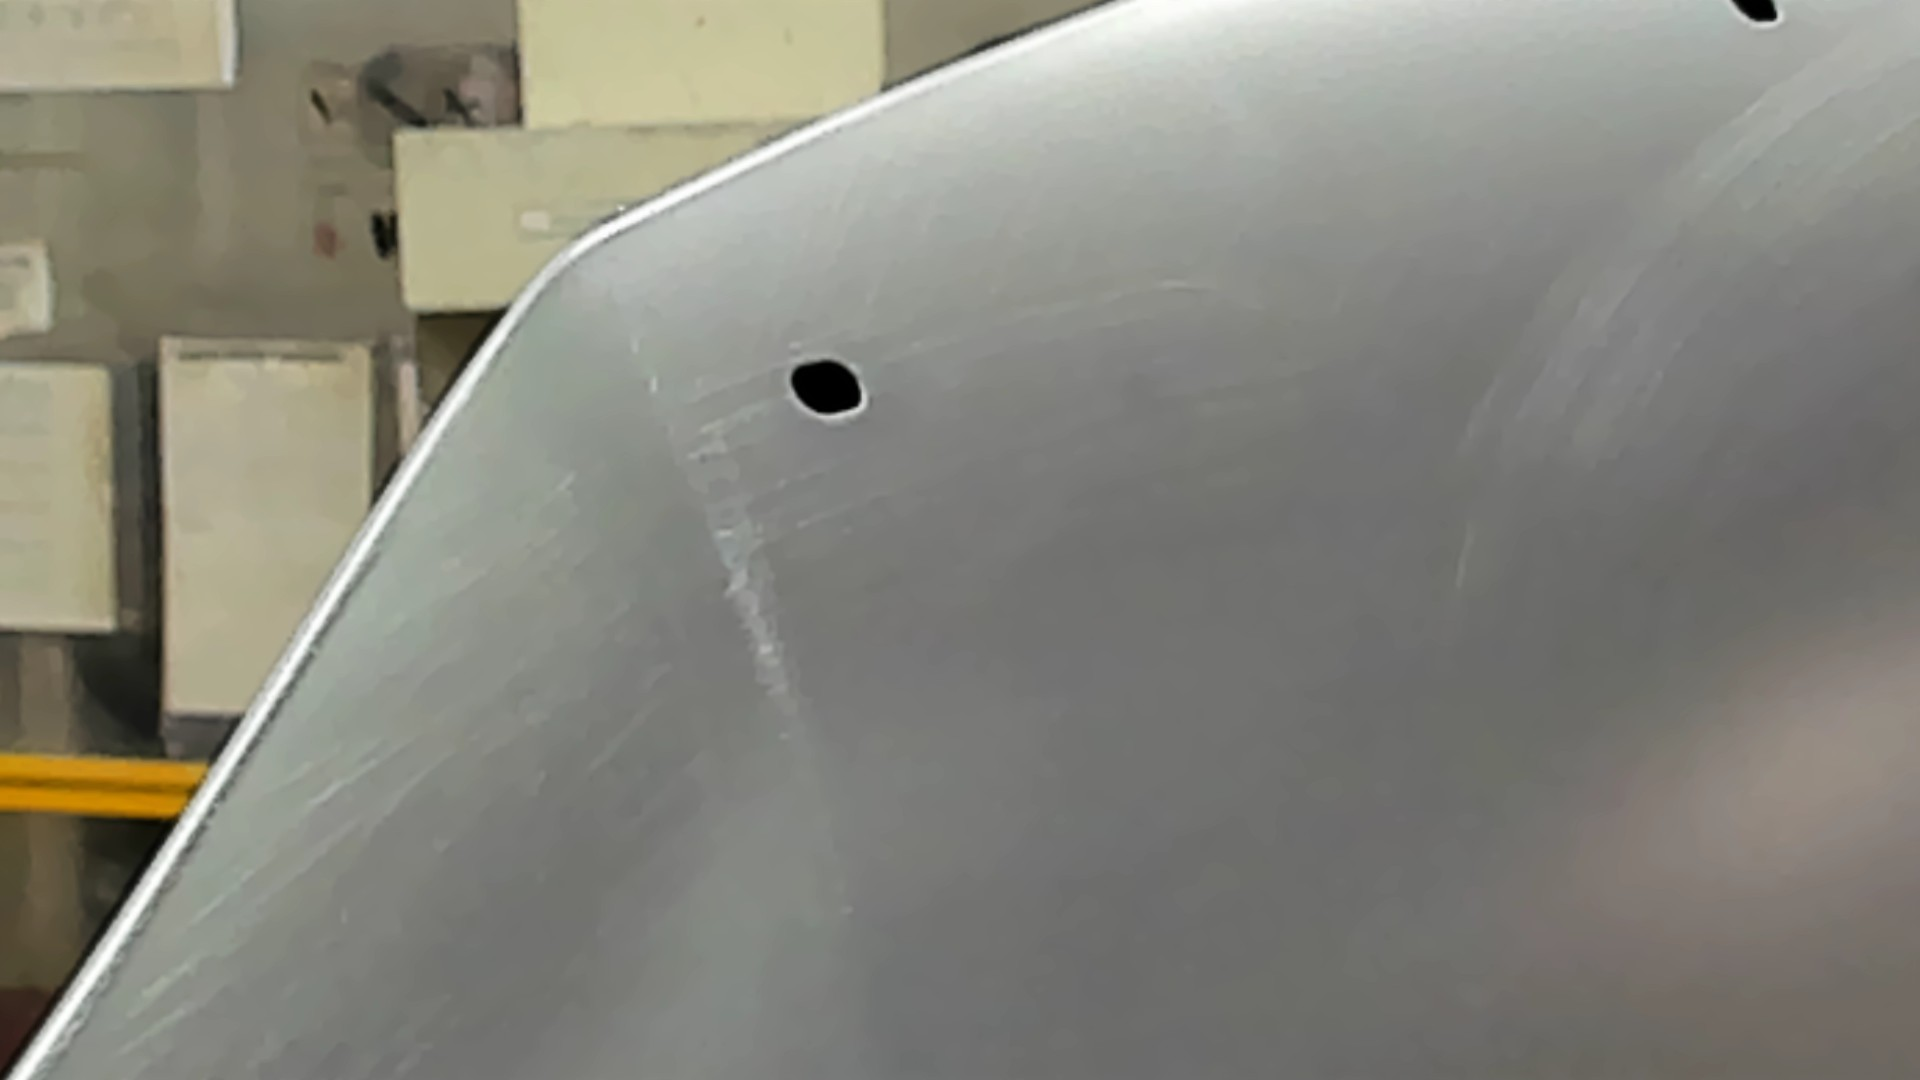amorfo: (786, 349, 874, 423), (1727, 1, 1789, 33)
